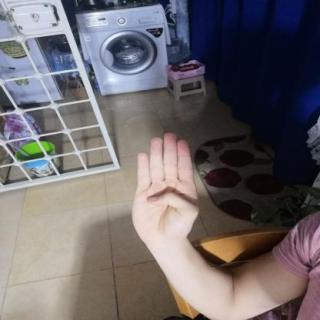KAAF: (118, 125, 212, 254)
